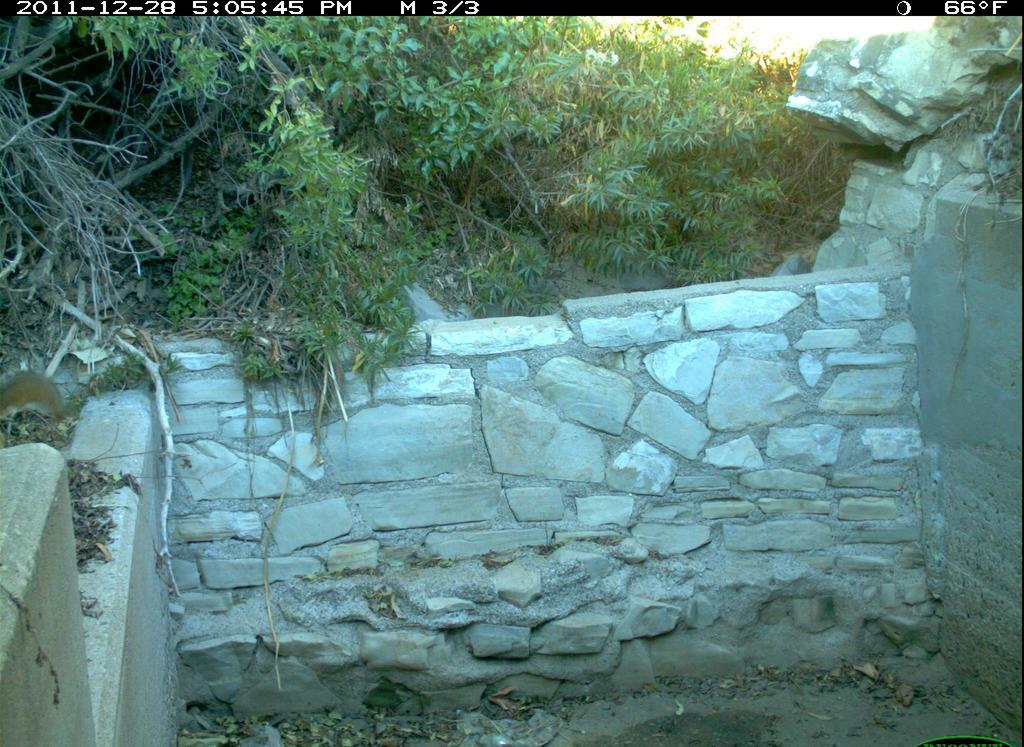squirrel: (2, 367, 76, 442)
